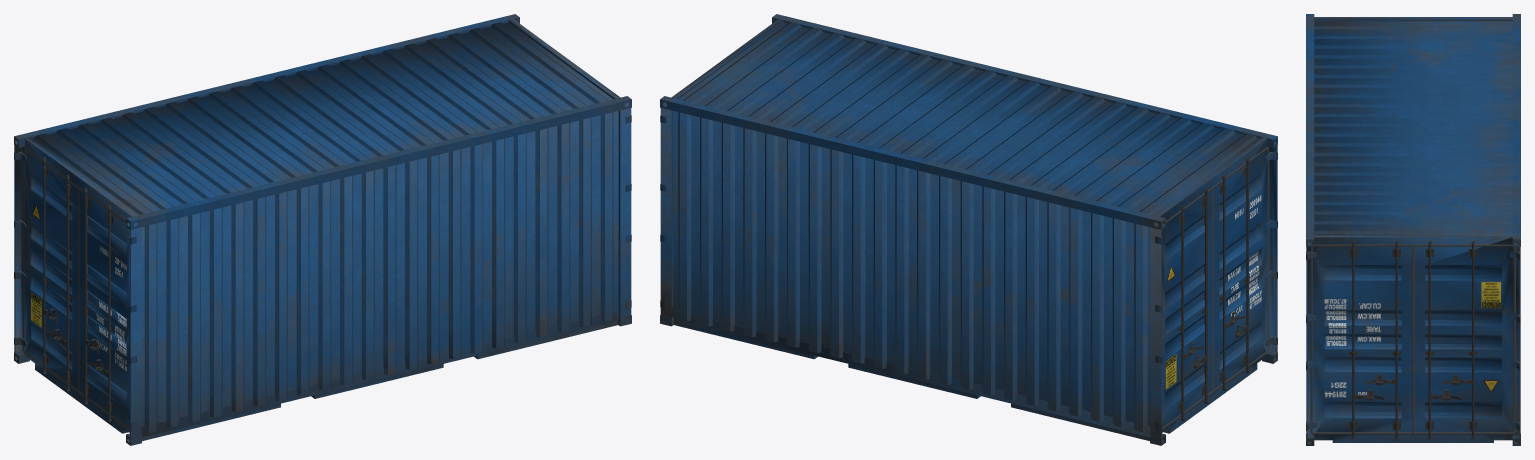
File: container_azul.glb
3 views of the same model, side by side, from view 1: azimuth 30°, elevation 25°; view 2: azimuth 150°, elevation 25°; view 3: azimuth 270°, elevation 25° (orthographic). The views are drawn at different scales.
Parts seen in each view (by area): view 1: petikemas; view 2: petikemas; view 3: petikemas.
Part boxes in pixels (x1,y1,x2,y2): petikemas: (14, 14, 631, 445); petikemas: (660, 14, 1277, 445); petikemas: (1306, 14, 1520, 445).
Size of the model in its own units: 6.07 by 2.59 by 2.44.
3 materials, 3 textured.
